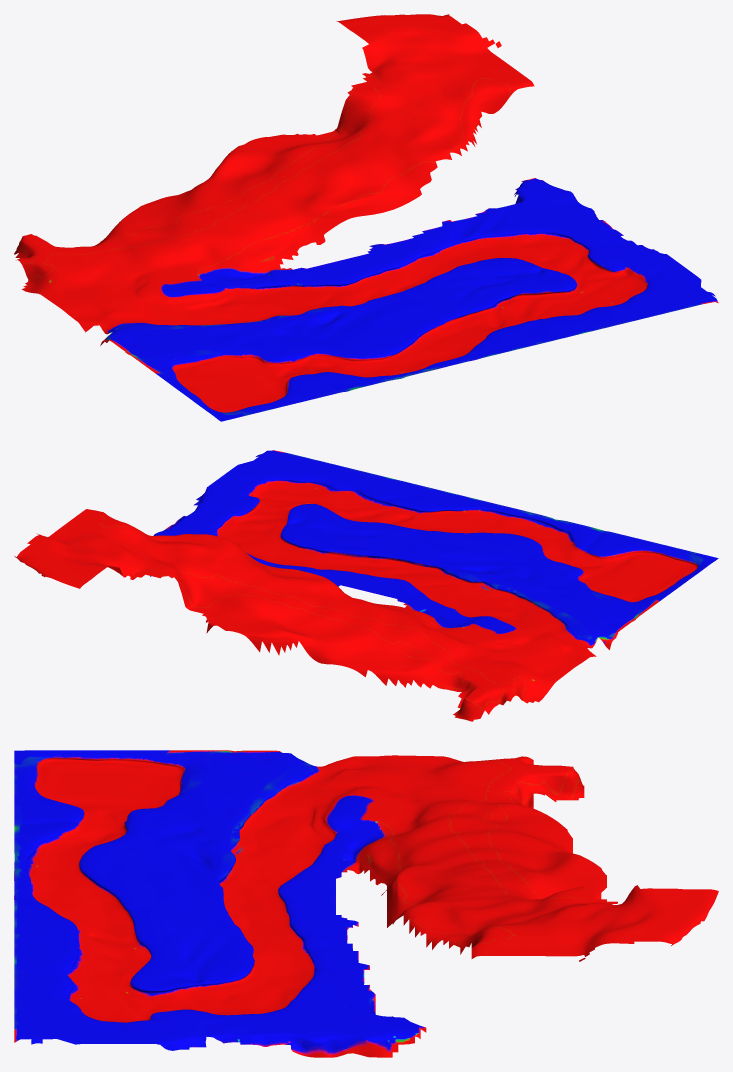
File: lower_terrain_a_deform.fbx
3 views of the same model, one above another, from view 1: azimuth 30°, elevation 25°; view 2: azimuth 150°, elevation 25°; view 3: azimuth 270°, elevation 25° (orthographic). The views are drawn at different scales.
Visible parts, largest first — view 1: Retopo_Plane.001; view 2: Retopo_Plane.001; view 3: Retopo_Plane.001.
Boxes of the visible parts, x1,y1,x2,y2 form: Retopo_Plane.001: (14,14,718,421); Retopo_Plane.001: (14,450,718,721); Retopo_Plane.001: (14,750,718,1057).
Size of the model in its own units: 986 by 179 by 976.
Materials: 1 (1 with a texture image).
